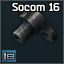M1A Smith Enterprise SOCOM 16 7.62x51 threaded muzzle brake & compensator: (0, 0, 64, 64)
